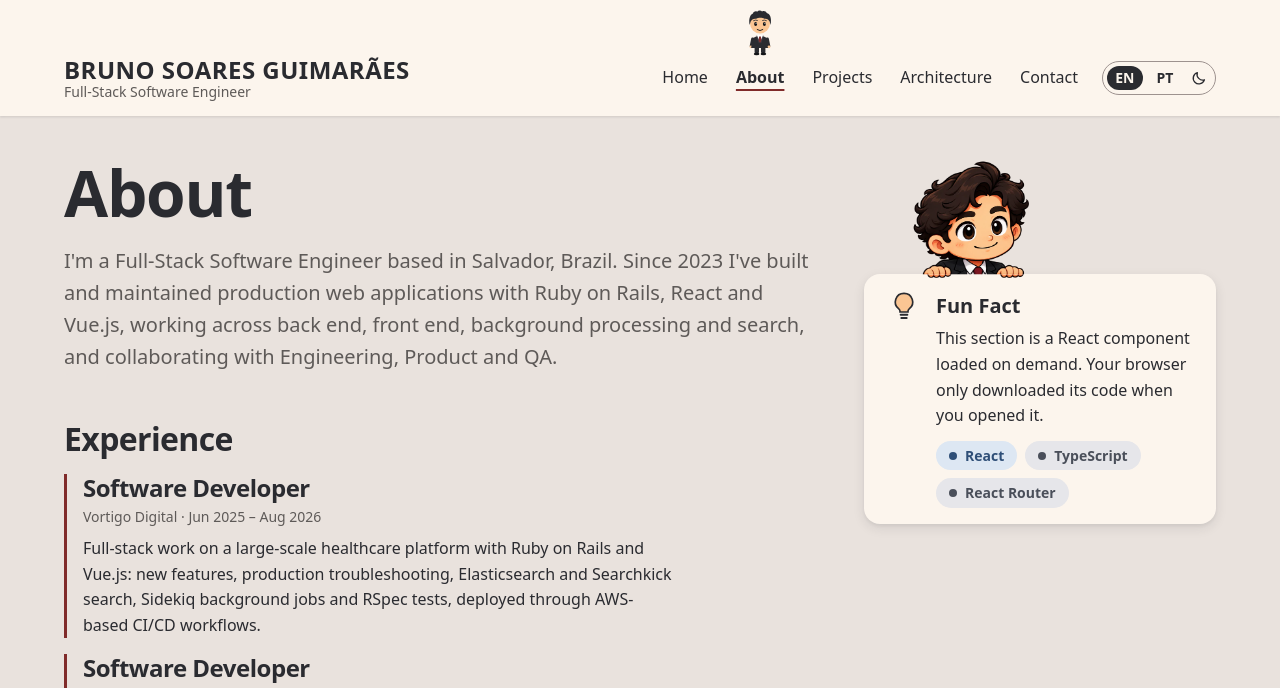
Scenario: page transitions › crossfades the brand link
Expected: the heading "About" is shown, [64,149,252,236]
Click the link "Bruno Soares Guimarães Full-Stack Software Engineer" at {"x": 237, "y": 78}, box [64,56,410,100]
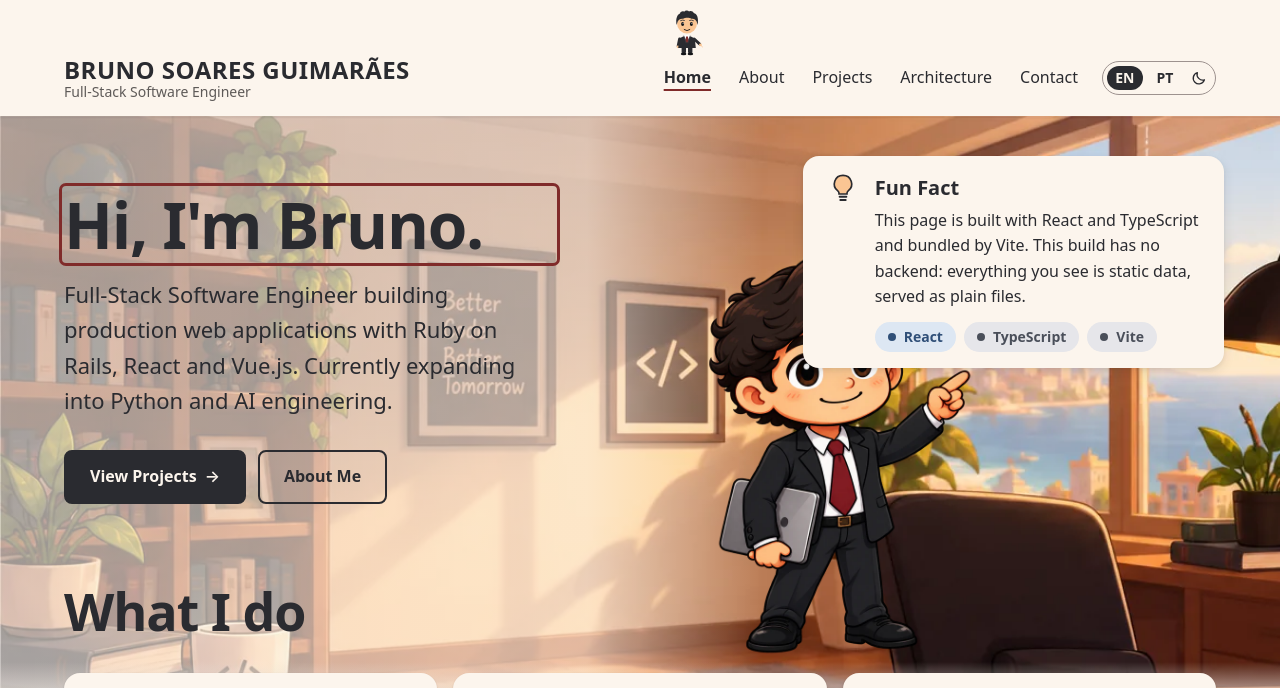
Result: the heading "Hi, I'm Bruno." is shown at [64,188,555,261]
